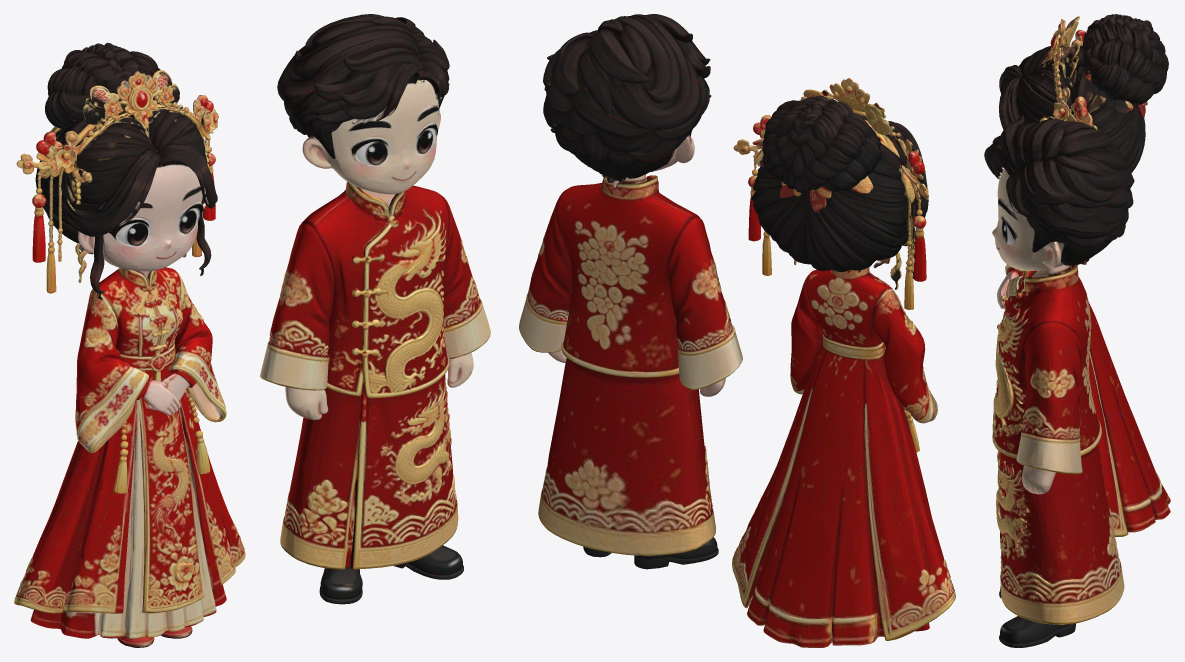
The model's file is couple.glb.
3 views of the same model, side by side, from view 1: azimuth 30°, elevation 25°; view 2: azimuth 150°, elevation 25°; view 3: azimuth 270°, elevation 25° (orthographic). The views are drawn at different scales.
Parts seen in each view (by area): view 1: output_unwrapped; view 2: output_unwrapped; view 3: output_unwrapped.
Part boxes in pixels (x1,y1,x2,y2): output_unwrapped: (14, 14, 490, 647); output_unwrapped: (519, 14, 955, 647); output_unwrapped: (984, 14, 1170, 647).
Bounding box in the file's own units: 1.64 × 1.9 × 0.6456.
Materials: 1 (1 with a texture image).
